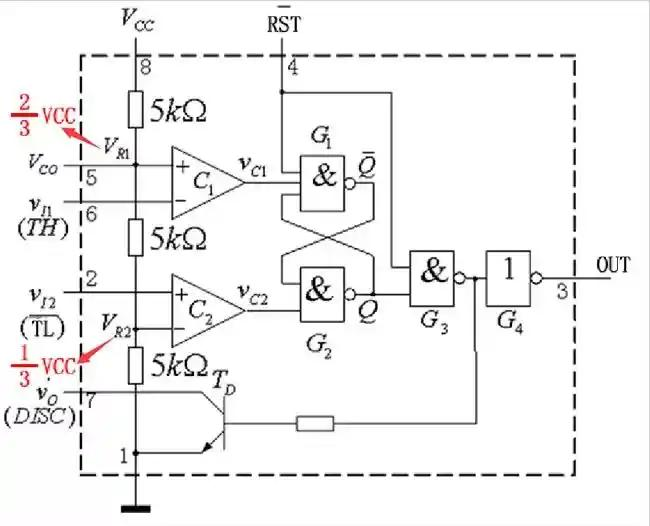bistable flip-flop: (280, 154, 453, 322)
comparator1: (172, 272, 247, 348), (170, 145, 246, 219)
discharge circuit: (199, 390, 234, 455)
output circuit: (486, 250, 529, 305)
reset circuit: (274, 82, 292, 104)
resistance: (128, 346, 144, 384), (128, 218, 143, 256), (128, 90, 142, 129)
